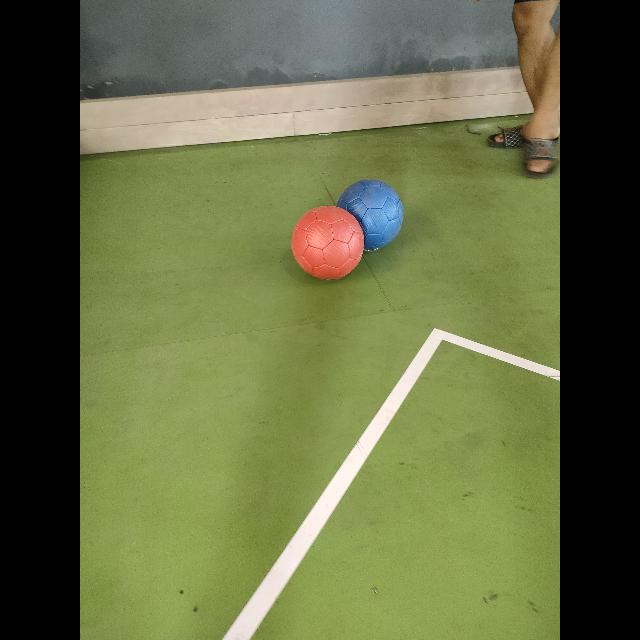B: (338, 180, 404, 250)
R: (291, 206, 365, 279)
